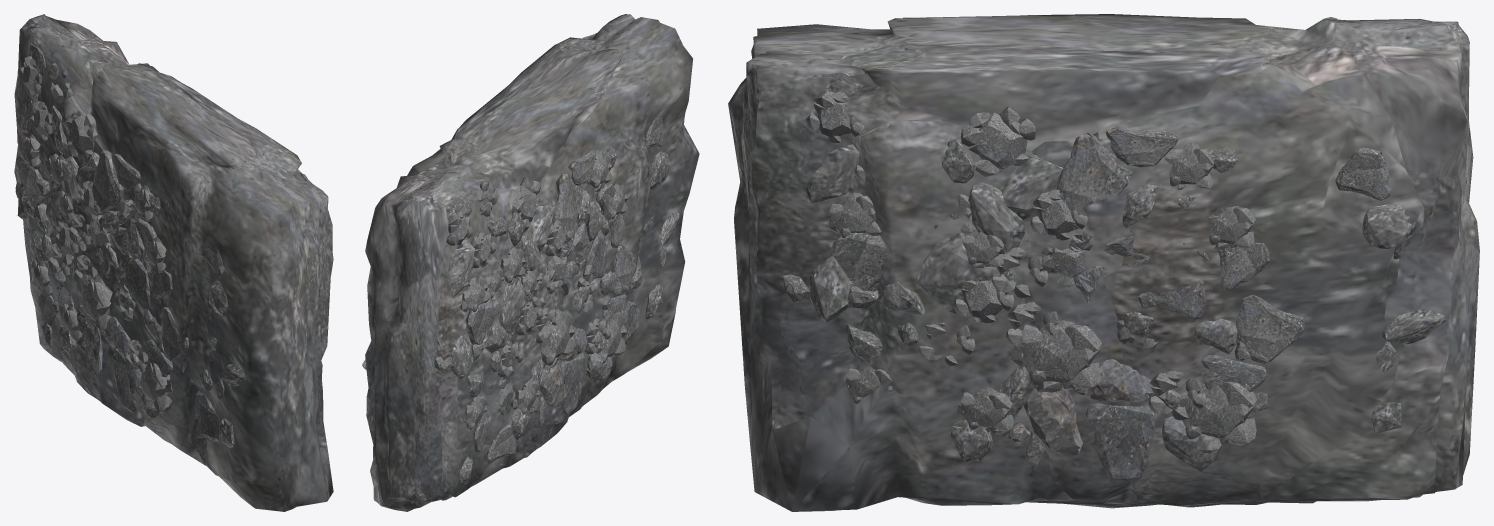
File: SM_Yakushima_Breakwall_Soil001_23c439.glb
The picture shows the model from 3 angles, left to right: view 1: azimuth 30°, elevation 25°; view 2: azimuth 150°, elevation 25°; view 3: azimuth 270°, elevation 25°; orthographic projection. The views are drawn at different scales.
Bounding box in the file's own units: 2.35 × 5.7 × 8.38.
2 materials, 2 textured.
